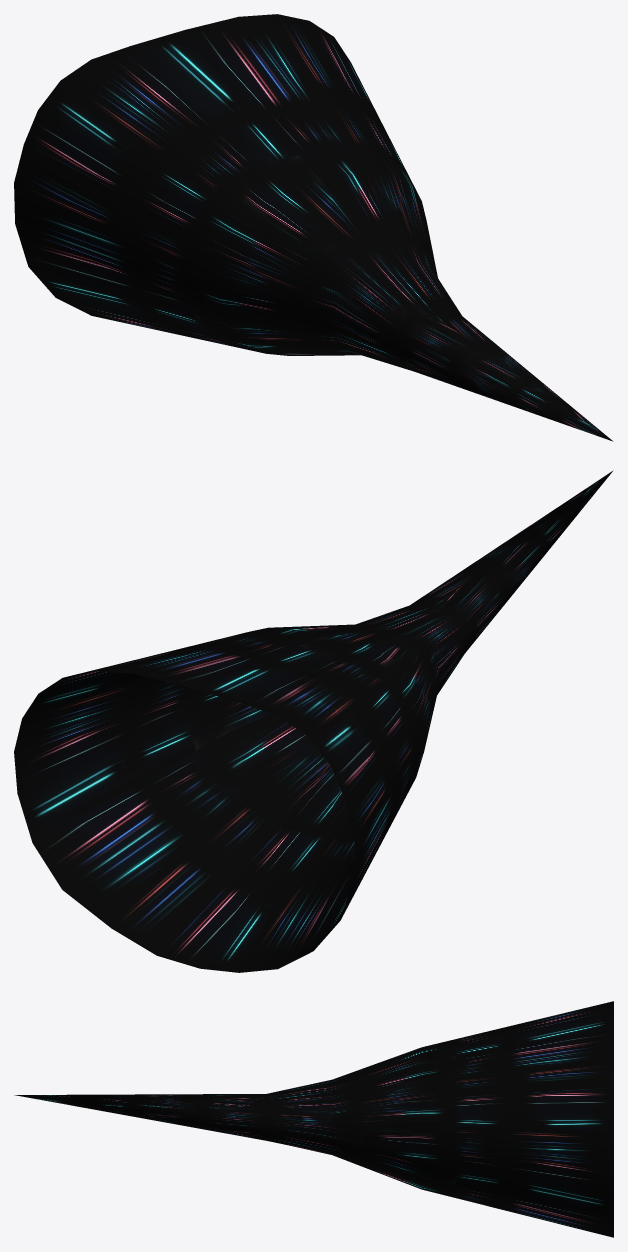
The model's file is star_sky_tiled.fbx.
The picture shows the model from 3 angles, top to bottom: view 1: azimuth 30°, elevation 25°; view 2: azimuth 150°, elevation 25°; view 3: azimuth 270°, elevation 25°; orthographic projection. The views are drawn at different scales.
Visible parts, largest first — view 1: Plane001; view 2: Plane001; view 3: Plane001.
Boxes of the visible parts, left/top/right/bottom form: Plane001: left=14, top=14, right=613, bottom=441; Plane001: left=14, top=470, right=613, bottom=972; Plane001: left=14, top=1001, right=613, bottom=1237.
Bounding box in the file's own units: 1807 × 1411 × 3912.
